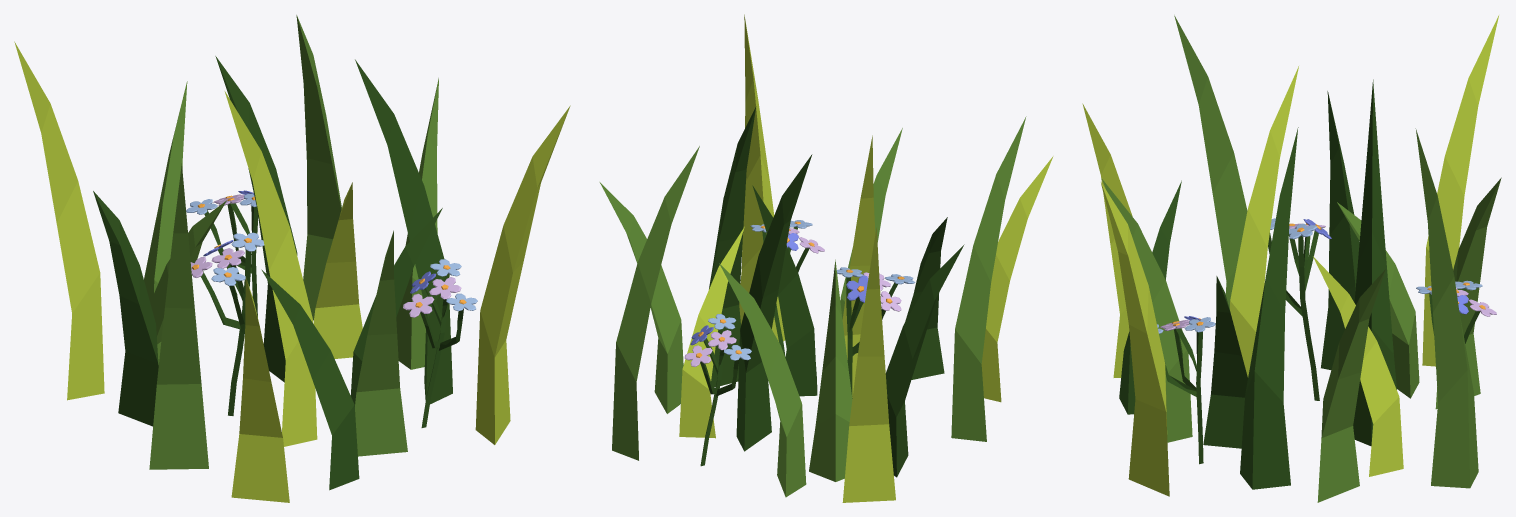
The model's file is lühem muru lilledega.fbx.
3 renders of one model, left to right at view 1: azimuth 30°, elevation 25°; view 2: azimuth 150°, elevation 25°; view 3: azimuth 270°, elevation 25°, orthographic. The views are drawn at different scales.
Parts seen in each view (by area): view 1: meelekamp.001; view 2: meelekamp.001; view 3: meelekamp.001.
Boxes of the visible parts, left/top/right/bottom form: meelekamp.001: left=14, top=15, right=570, bottom=502; meelekamp.001: left=599, top=14, right=1053, bottom=502; meelekamp.001: left=1082, top=15, right=1501, bottom=502.
Size of the model in its own units: 108 by 92.14 by 107.
